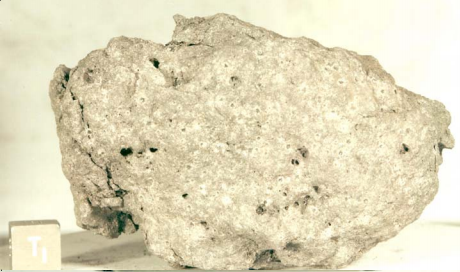Basalt: (65, 35, 427, 270)
